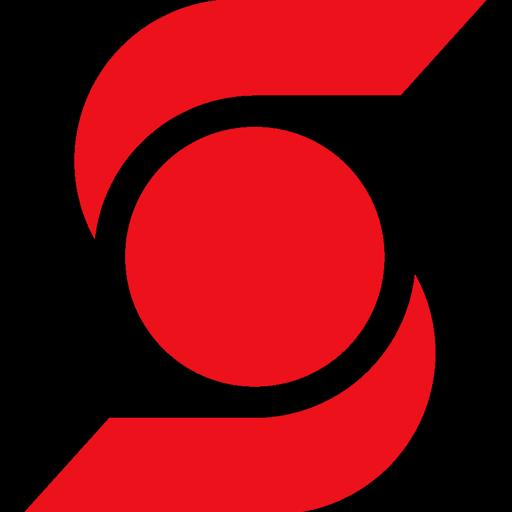Scotiabank: (24, 0, 488, 512)
